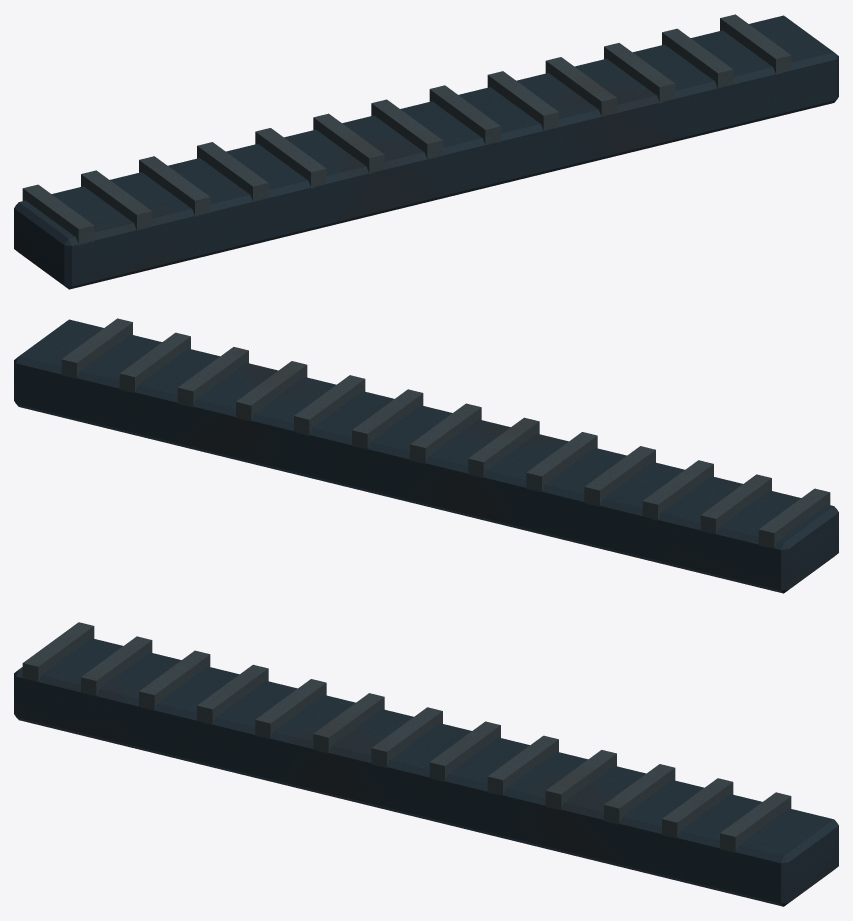
The model's file is Decor_CableTray.fbx.
3 views of the same model, one above another, from view 1: azimuth 30°, elevation 25°; view 2: azimuth 150°, elevation 25°; view 3: azimuth 330°, elevation 25° (orthographic).
Parts seen in each view (by area): view 1: ENV_Foundry_Decor_CableTray_LOD0; view 2: ENV_Foundry_Decor_CableTray_LOD0; view 3: ENV_Foundry_Decor_CableTray_LOD0.
Part boxes in pixels (x1,y1,x2,y2): ENV_Foundry_Decor_CableTray_LOD0: (14, 14, 838, 289); ENV_Foundry_Decor_CableTray_LOD0: (14, 318, 838, 593); ENV_Foundry_Decor_CableTray_LOD0: (14, 622, 838, 906).
Size of what is drawn, in the model's own units: 4 by 0.3 by 0.5.
